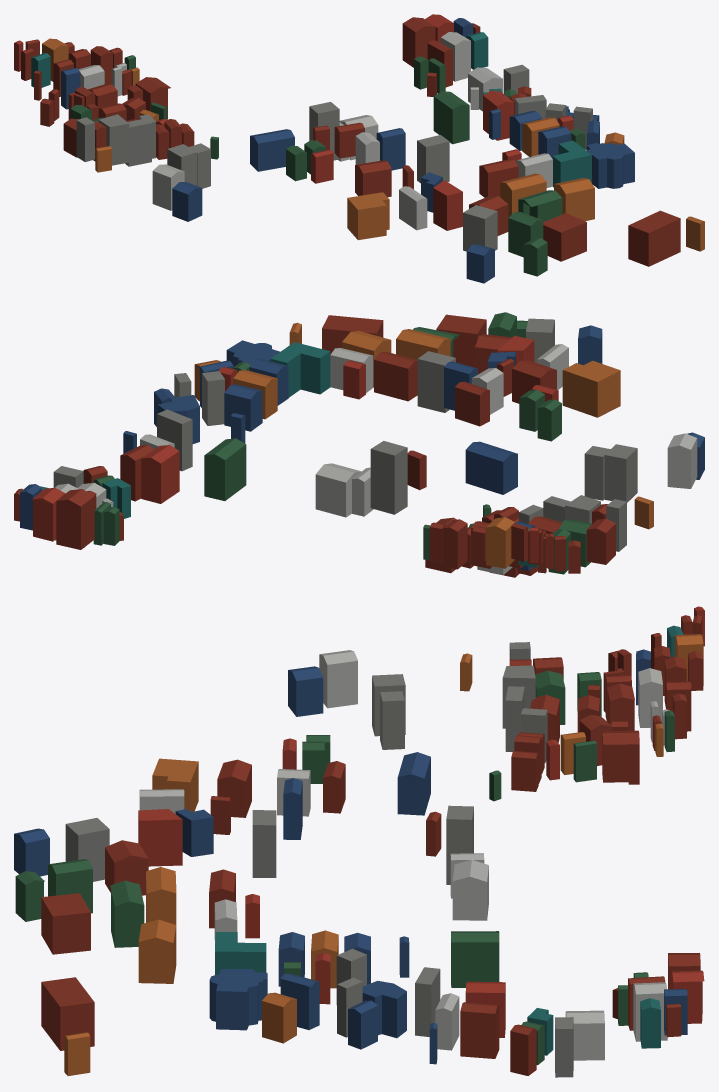
The model's file is near-17-109440-59471.743b8f73.glb.
3 renders of one model, top to bottom at view 1: azimuth 30°, elevation 25°; view 2: azimuth 150°, elevation 25°; view 3: azimuth 270°, elevation 25°, orthographic. The views are drawn at different scales.
Size of the model in its own units: 304 by 86.92 by 297.
